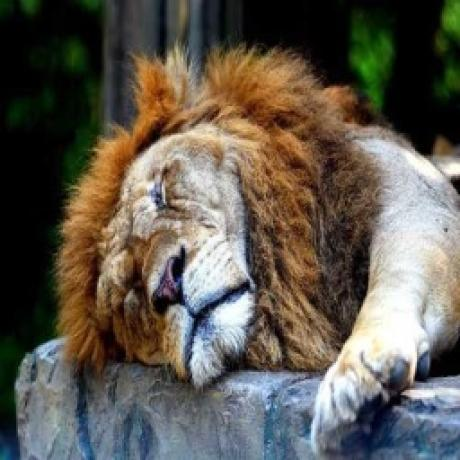Lion: (59, 41, 460, 456)
